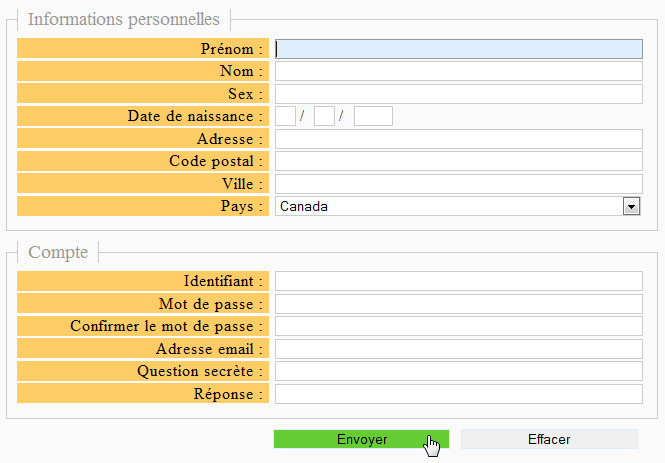_form_: (68, 31, 655, 411), (267, 34, 651, 461)
button: (459, 428, 640, 451), (271, 428, 451, 449)
field: (273, 149, 645, 173), (274, 81, 645, 105), (273, 337, 646, 360), (273, 359, 646, 382), (273, 37, 644, 60), (274, 60, 645, 83), (273, 128, 646, 150), (272, 172, 645, 194), (273, 314, 646, 336), (273, 383, 646, 405), (273, 270, 645, 292), (273, 293, 645, 315), (352, 104, 394, 127), (273, 103, 298, 127), (311, 104, 335, 127)
field_with_label: (71, 314, 648, 338), (159, 291, 647, 317), (155, 337, 647, 361), (138, 359, 647, 382), (194, 382, 648, 407), (200, 35, 646, 60), (219, 194, 647, 220), (184, 269, 646, 293), (167, 150, 646, 173), (198, 127, 647, 151), (226, 82, 647, 106), (219, 172, 647, 195), (219, 59, 646, 82), (127, 104, 298, 129)
select: (273, 194, 645, 218)
